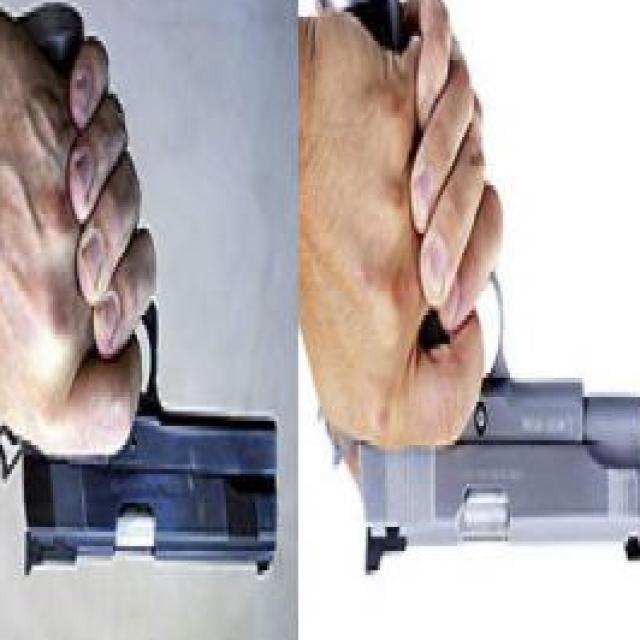pistol: (313, 0, 640, 595), (0, 3, 274, 619)
